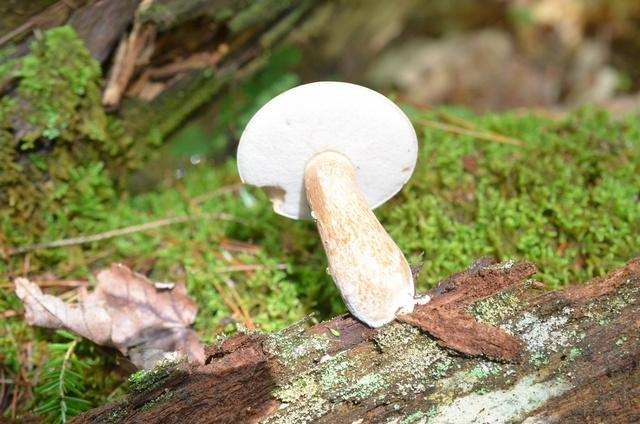poisonous_mushroom: (235, 79, 420, 328)
